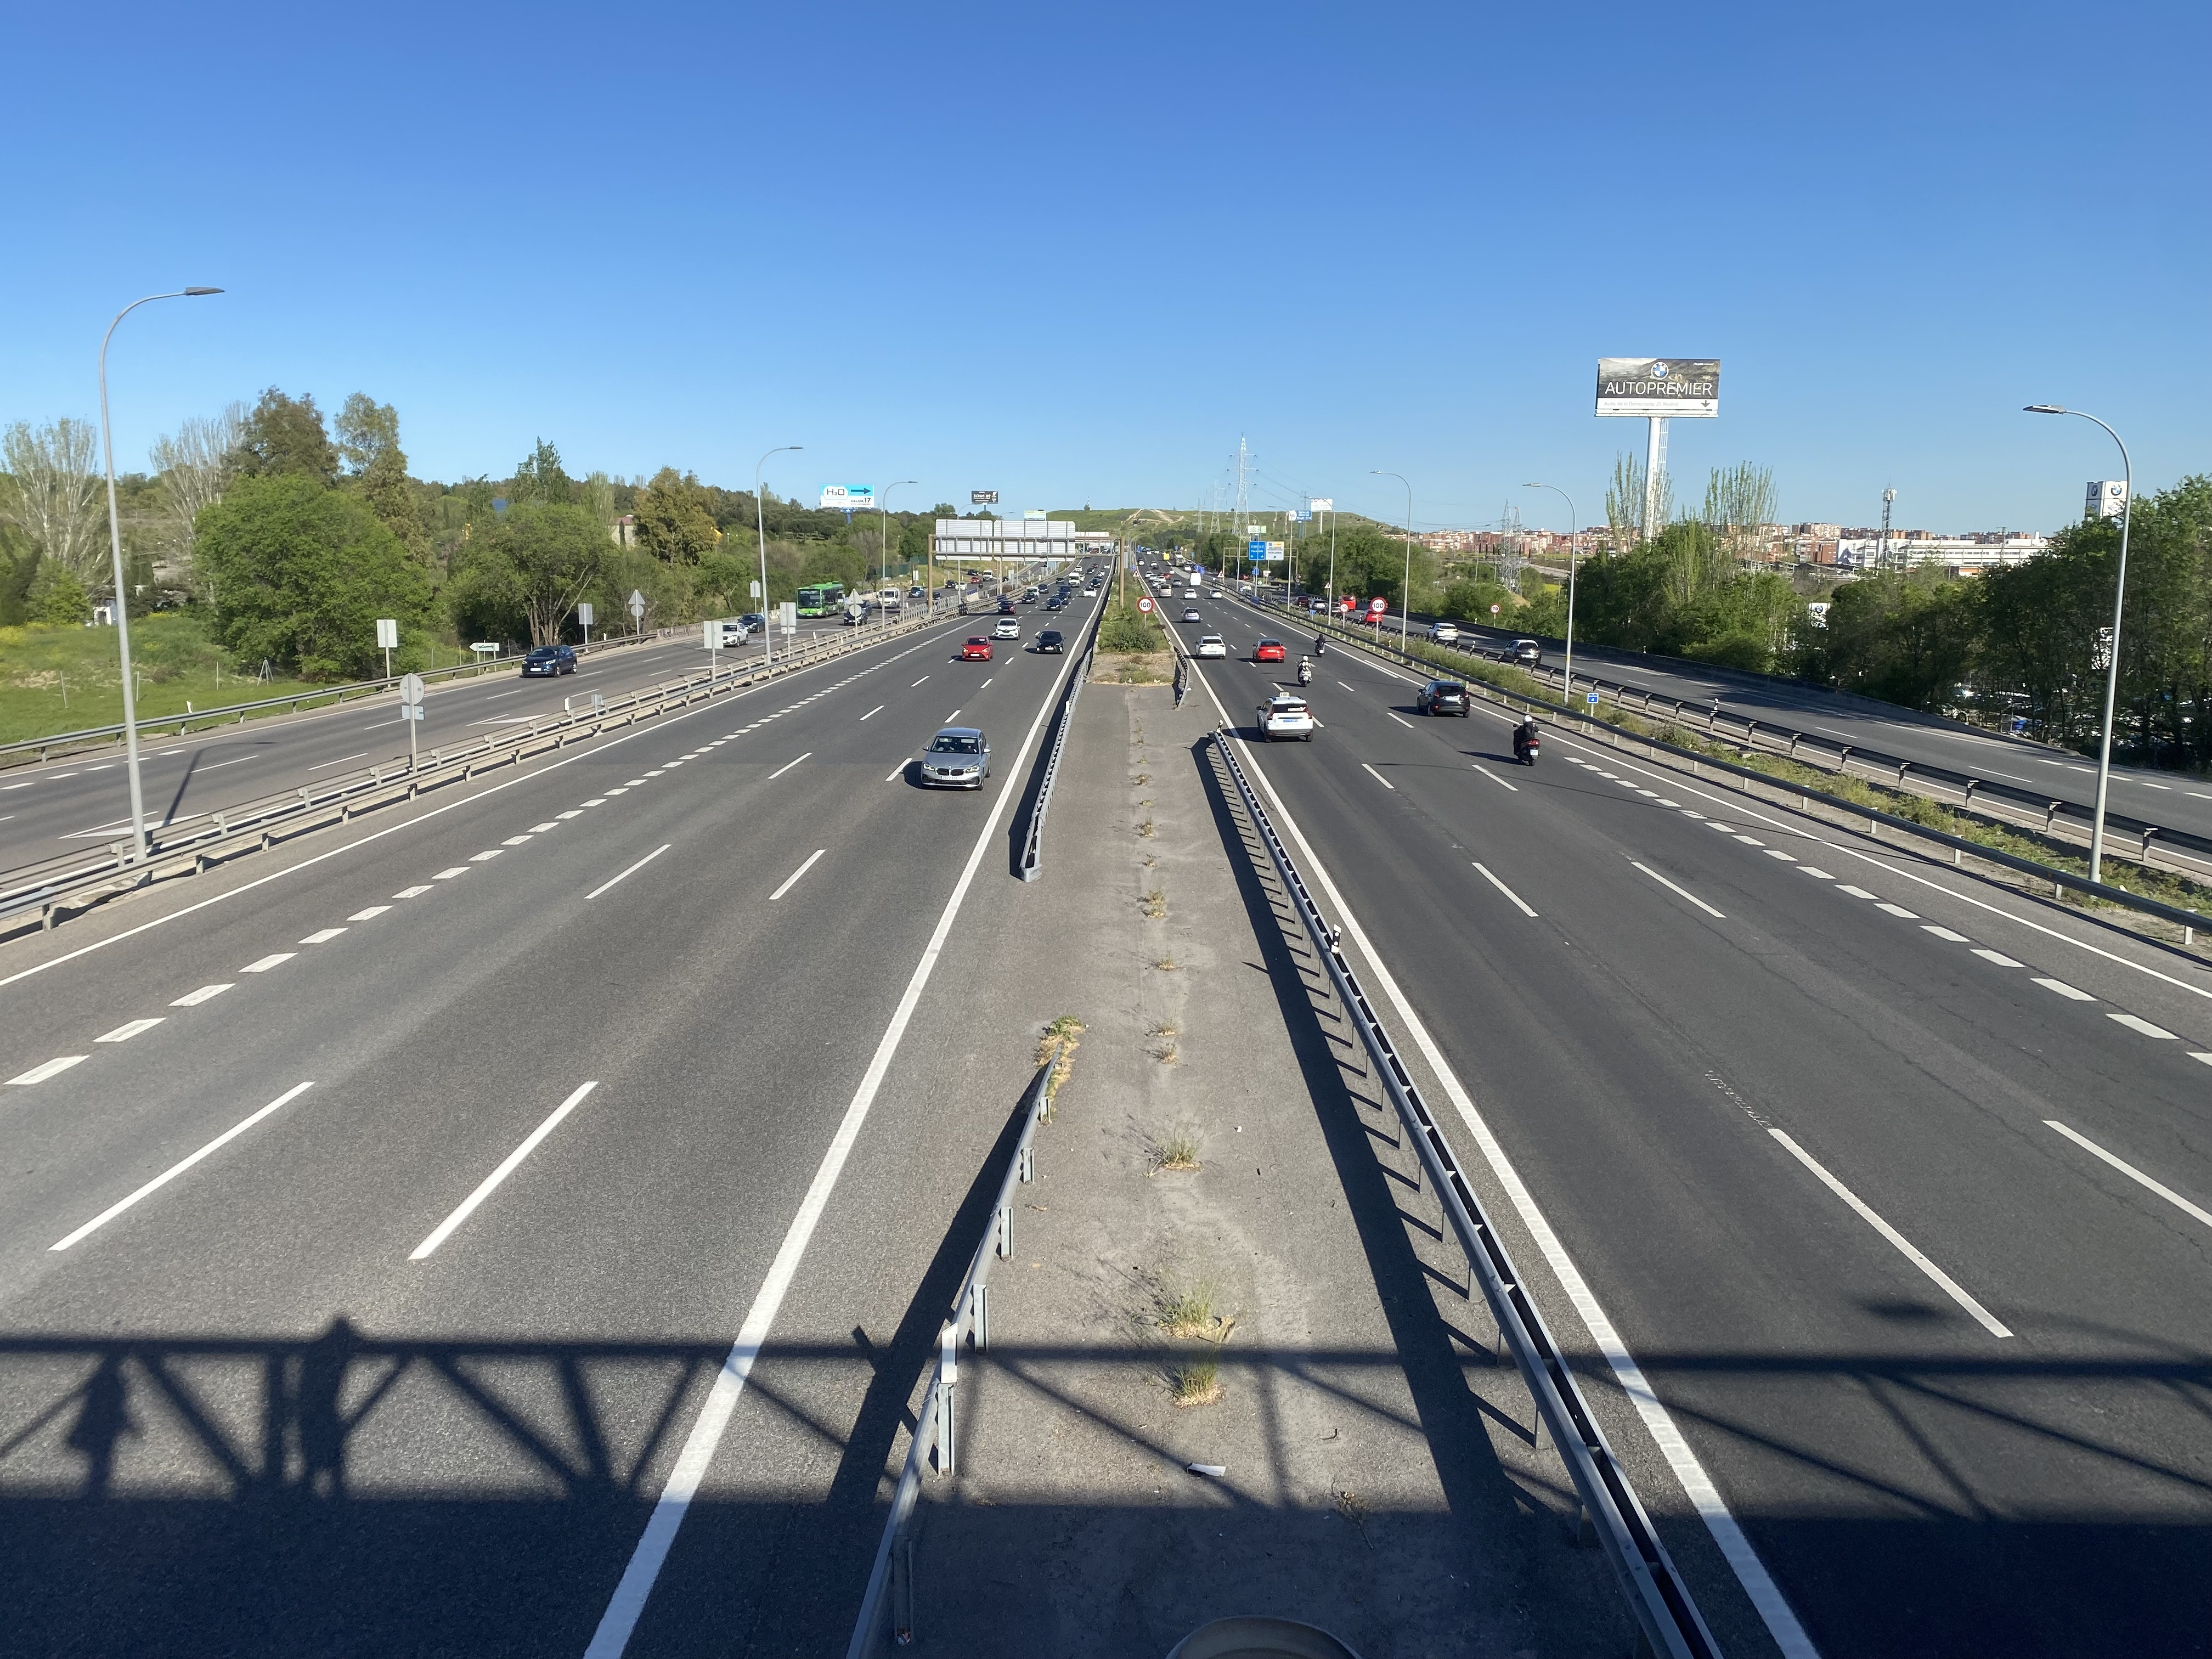cars: (920, 725, 988, 789), (1258, 695, 1313, 741), (1416, 678, 1470, 716), (521, 643, 577, 676), (1512, 716, 1540, 765), (1510, 638, 1540, 666), (1033, 627, 1062, 653), (1195, 634, 1226, 659), (1252, 640, 1285, 662), (960, 638, 993, 660), (723, 619, 749, 647), (1432, 622, 1460, 645), (991, 617, 1021, 638), (1045, 587, 1069, 612), (1298, 655, 1313, 687), (843, 605, 866, 626), (740, 613, 763, 633), (1181, 608, 1202, 622)
